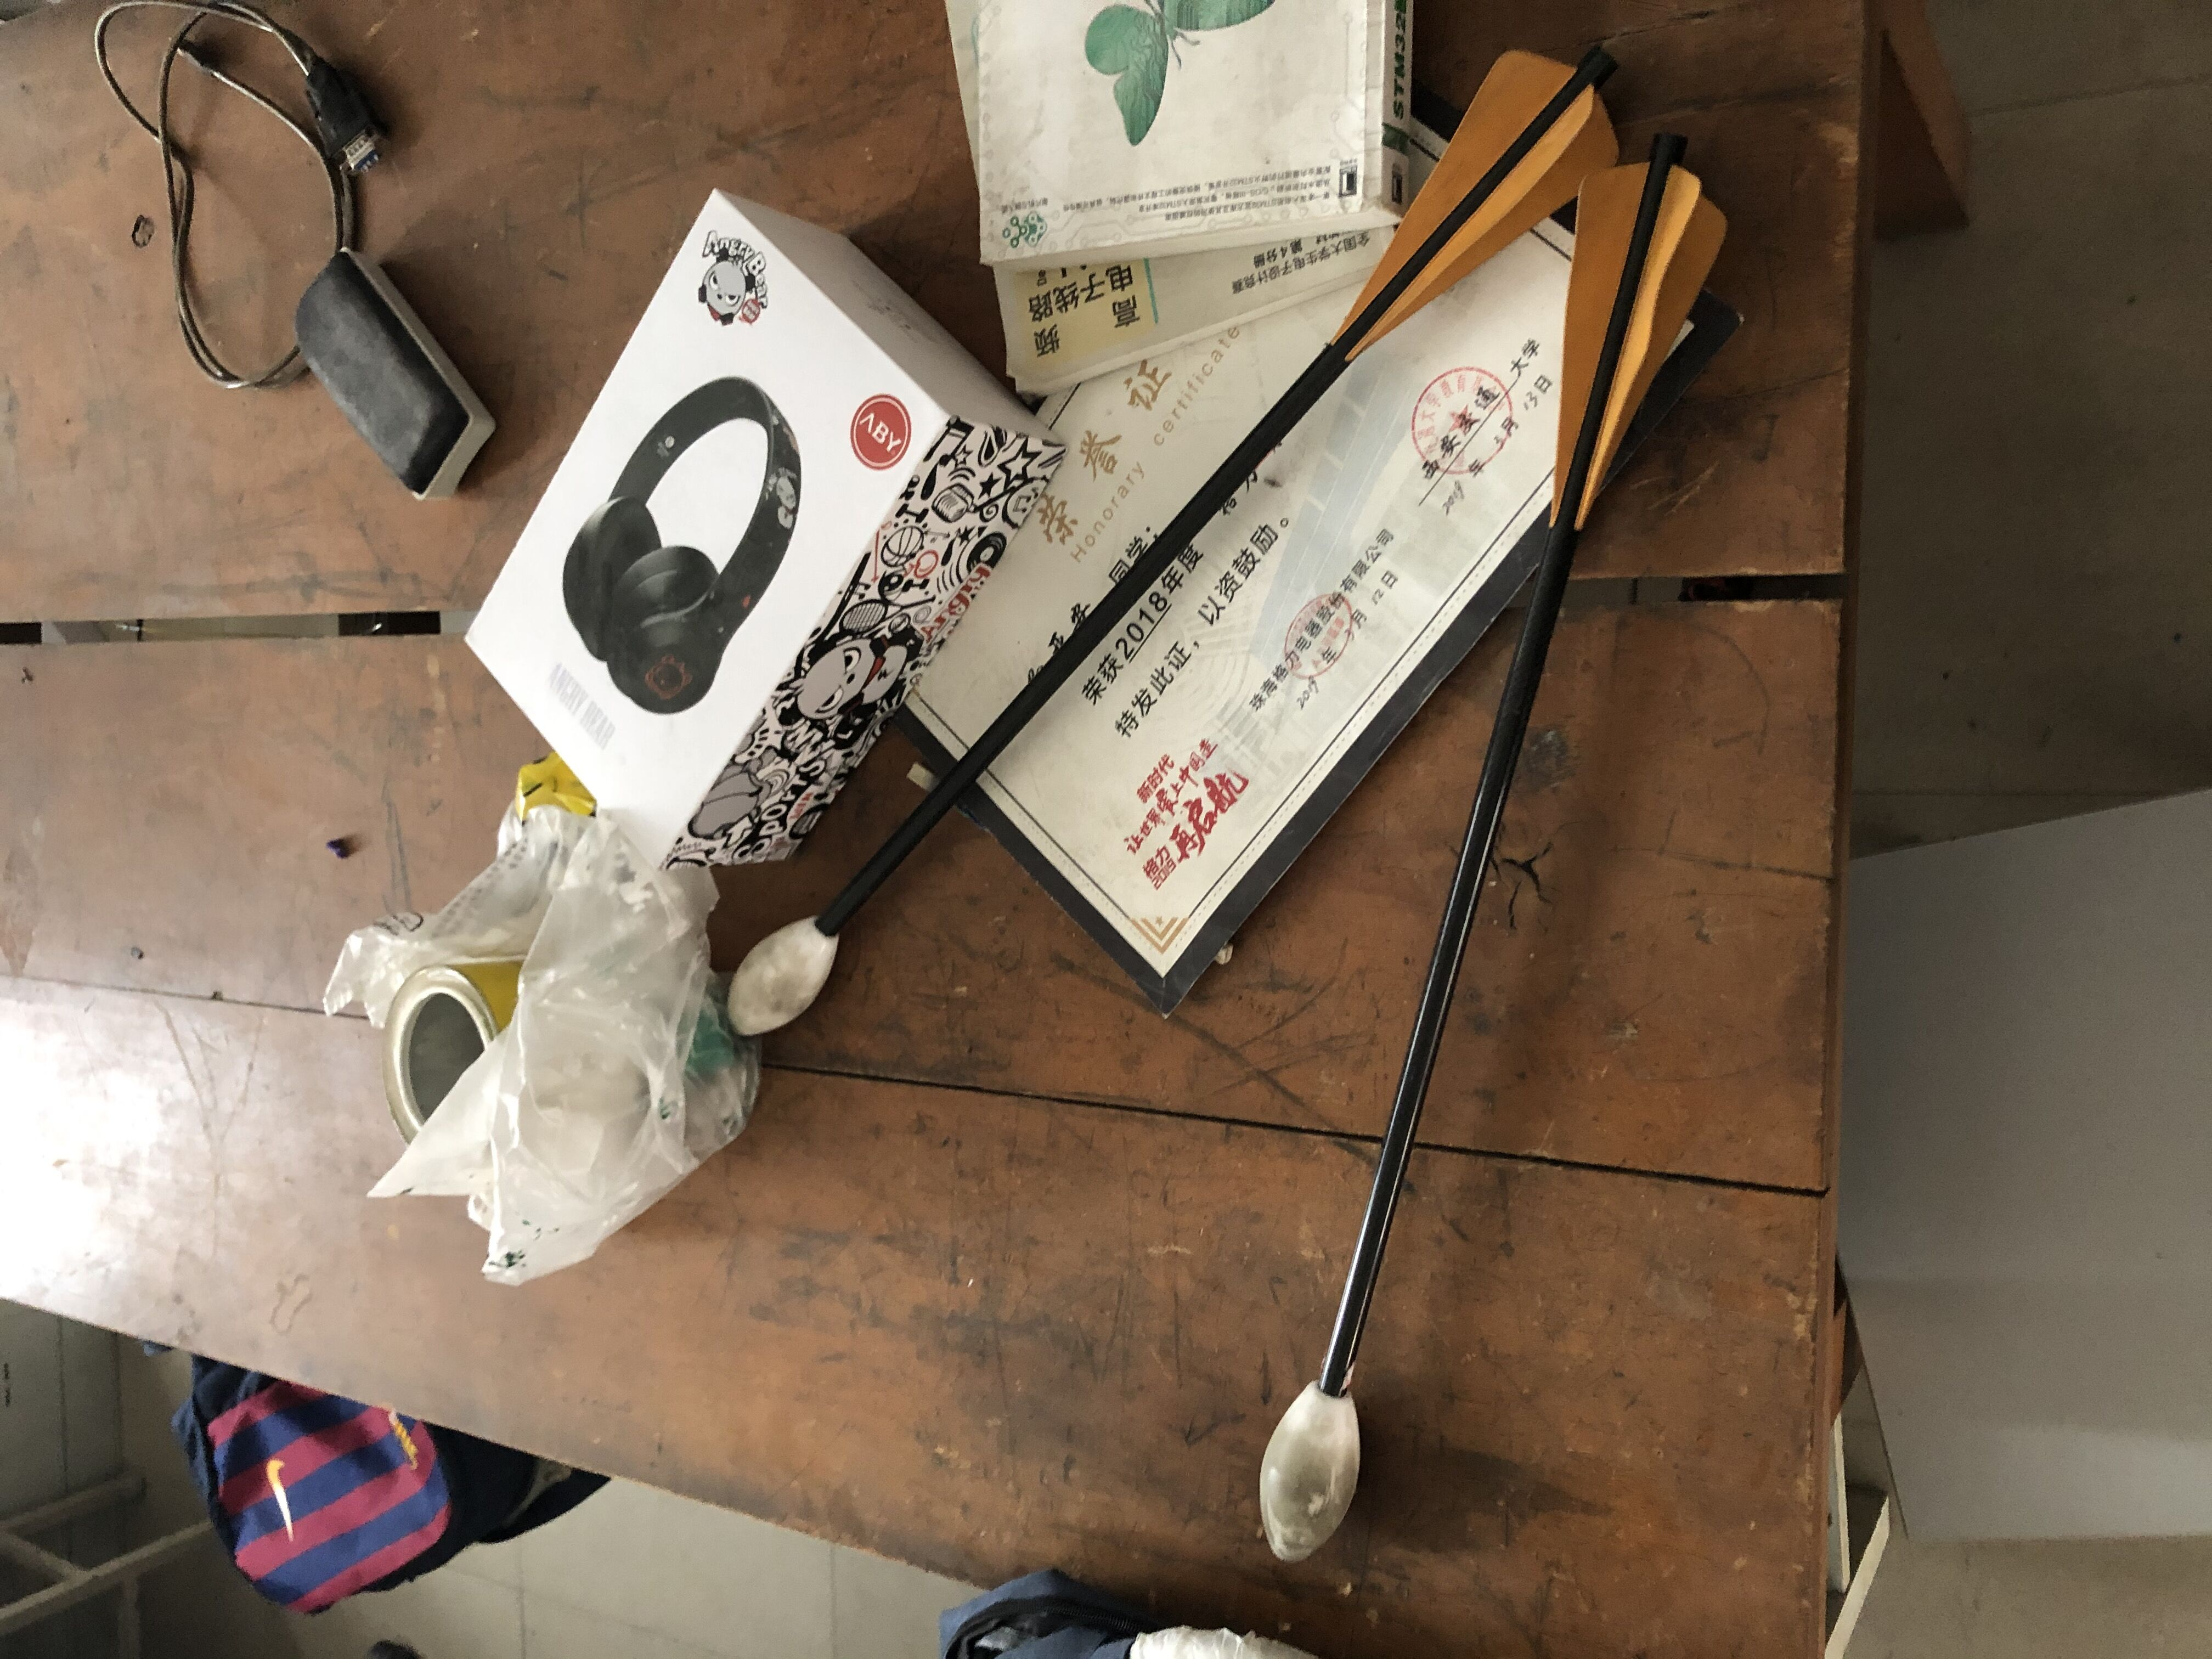arrow: (728, 54, 1622, 1035), (1256, 136, 1733, 1567)
arrowFront: (1258, 1380, 1360, 1568), (726, 913, 840, 1035)
